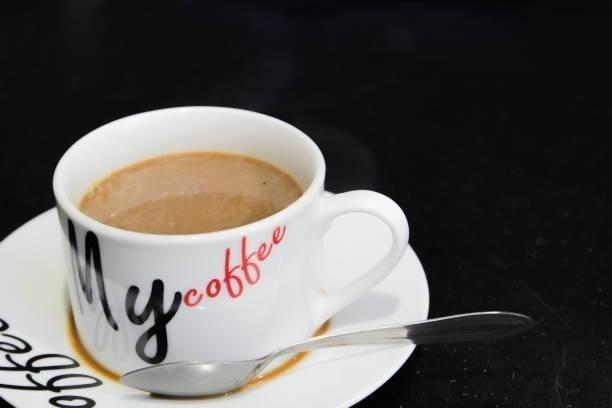cup-handle: (52, 103, 409, 398)
